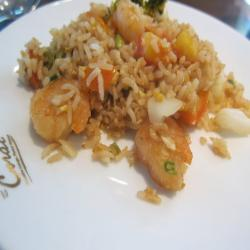rice: (39, 15, 213, 124)
